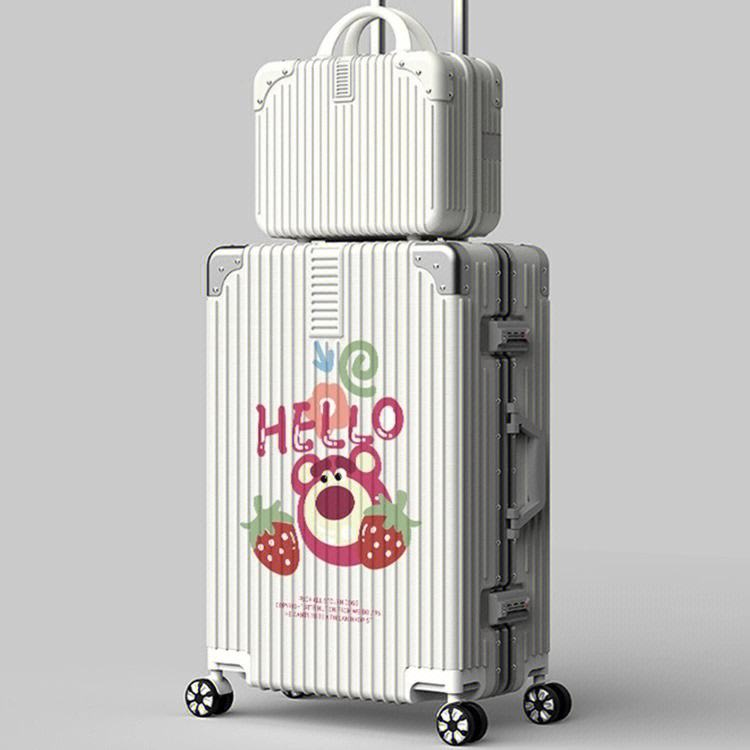box: (203, 241, 550, 703)
handle: (505, 401, 546, 538)
lock: (488, 587, 533, 627), (489, 320, 531, 353)
wheel: (434, 701, 489, 746), (523, 682, 572, 725), (185, 676, 234, 718)
